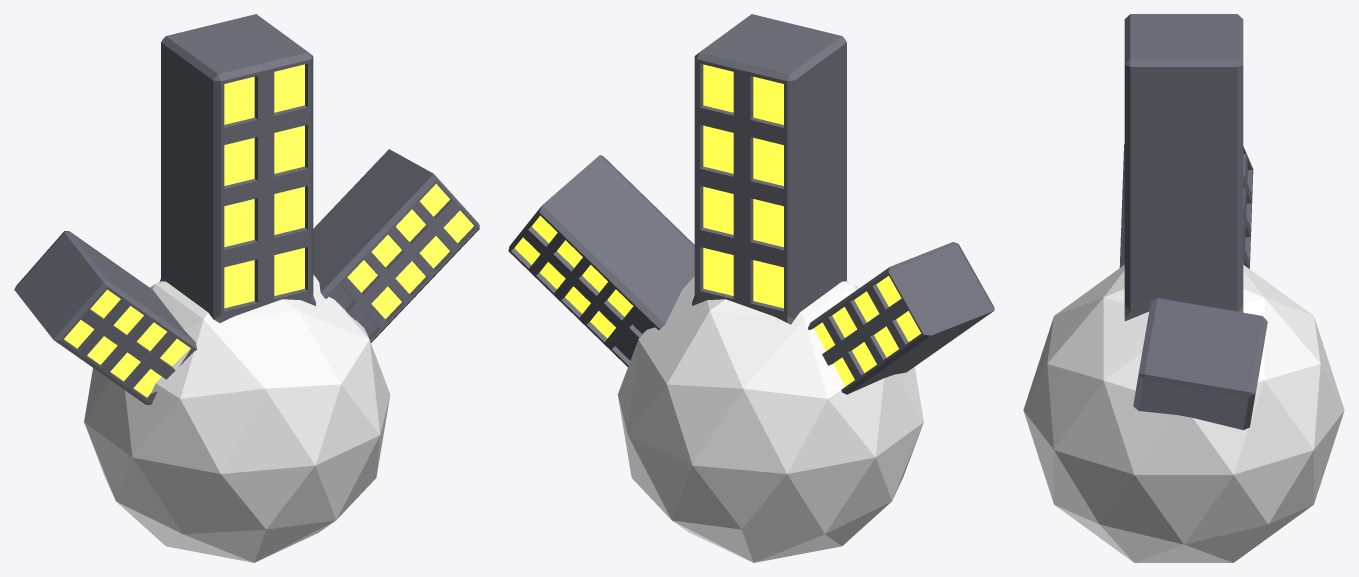
The model's file is Planet1.glb.
3 views of the same model, side by side, from view 1: azimuth 30°, elevation 25°; view 2: azimuth 150°, elevation 25°; view 3: azimuth 270°, elevation 25° (orthographic). The views are drawn at different scales.
Parts seen in each view (by area): view 1: Icosphere, Cube, Cube.001, Cube.002; view 2: Icosphere, Cube, Cube.001, Cube.002; view 3: Icosphere, Cube, Cube.001, Cube.002.
Boxes of the visible parts, <box> form: Icosphere: <box>84,275,390,562</box>; Cube: <box>159,14,315,322</box>; Cube.001: <box>313,149,479,342</box>; Cube.002: <box>14,231,196,404</box>; Icosphere: <box>617,275,923,562</box>; Cube: <box>692,14,846,324</box>; Cube.001: <box>508,155,694,367</box>; Cube.002: <box>808,242,994,394</box>; Icosphere: <box>1023,265,1344,562</box>; Cube: <box>1124,14,1243,321</box>; Cube.001: <box>1133,298,1267,430</box>; Cube.002: <box>1119,144,1253,268</box>.
Bounding box in the file's own units: 3.2 × 3.57 × 2.
